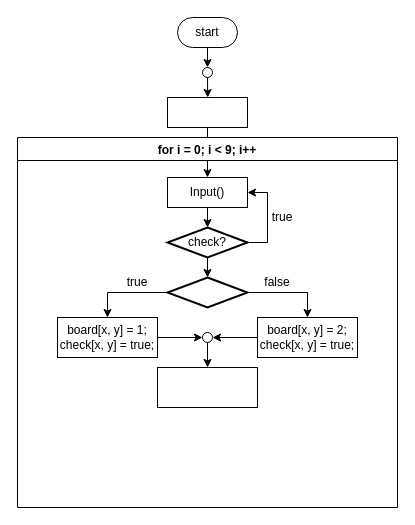
Image size: 415x525. Some labels were removed from this diagram. Each missing label, with the box of its shape:
Draw() LineCheck(): (156, 366, 258, 408)
initialize: (166, 96, 248, 128)
turn?: (166, 276, 248, 308)
